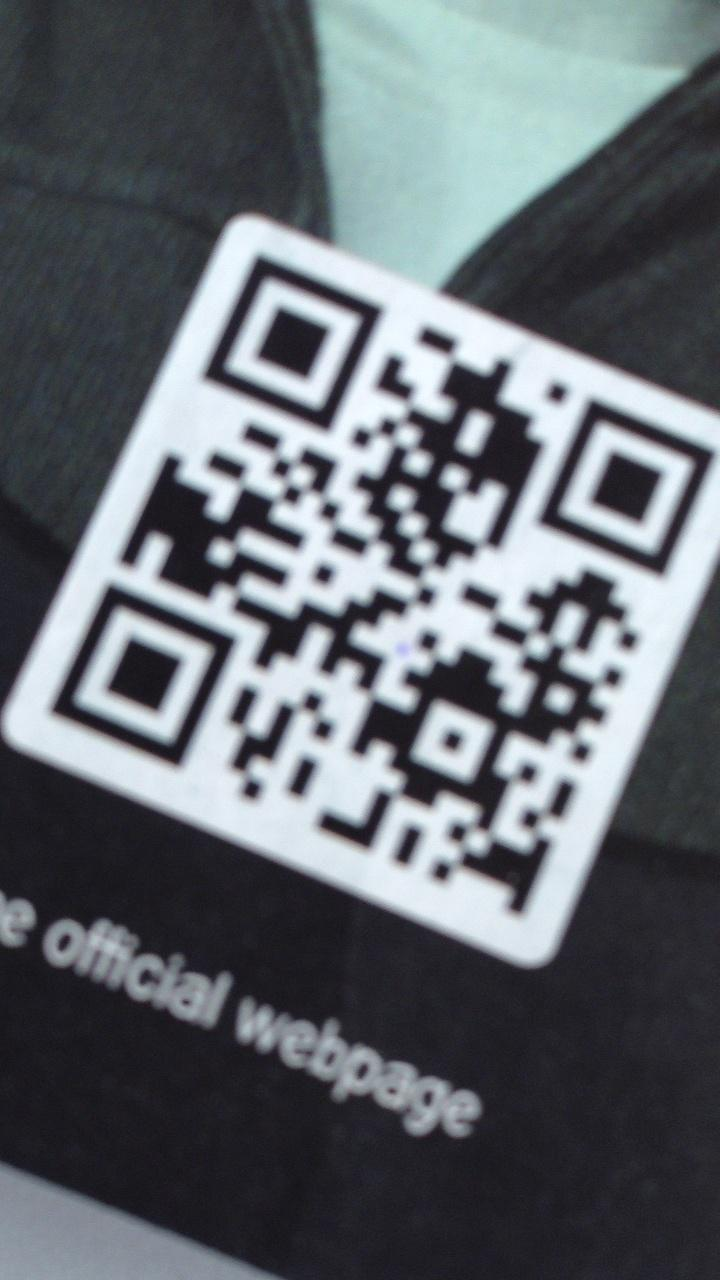Finder pattern: (54, 577, 238, 771), (524, 395, 714, 580), (213, 249, 383, 433)
